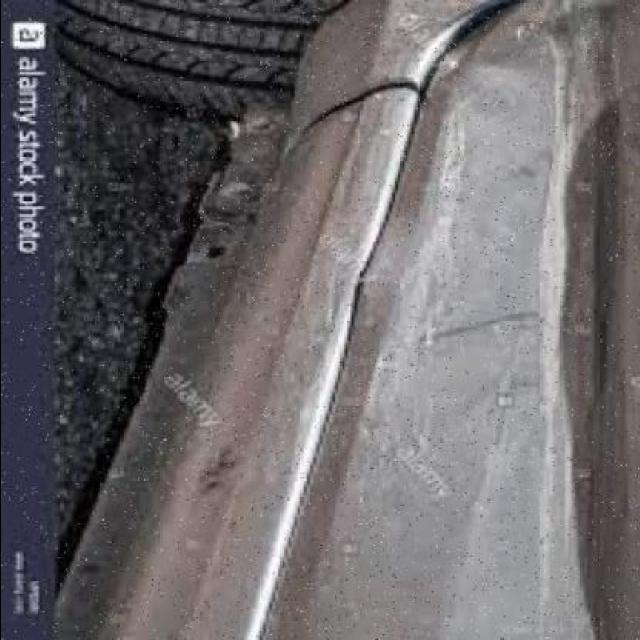RunningBoard-Dent: (181, 0, 425, 383)
